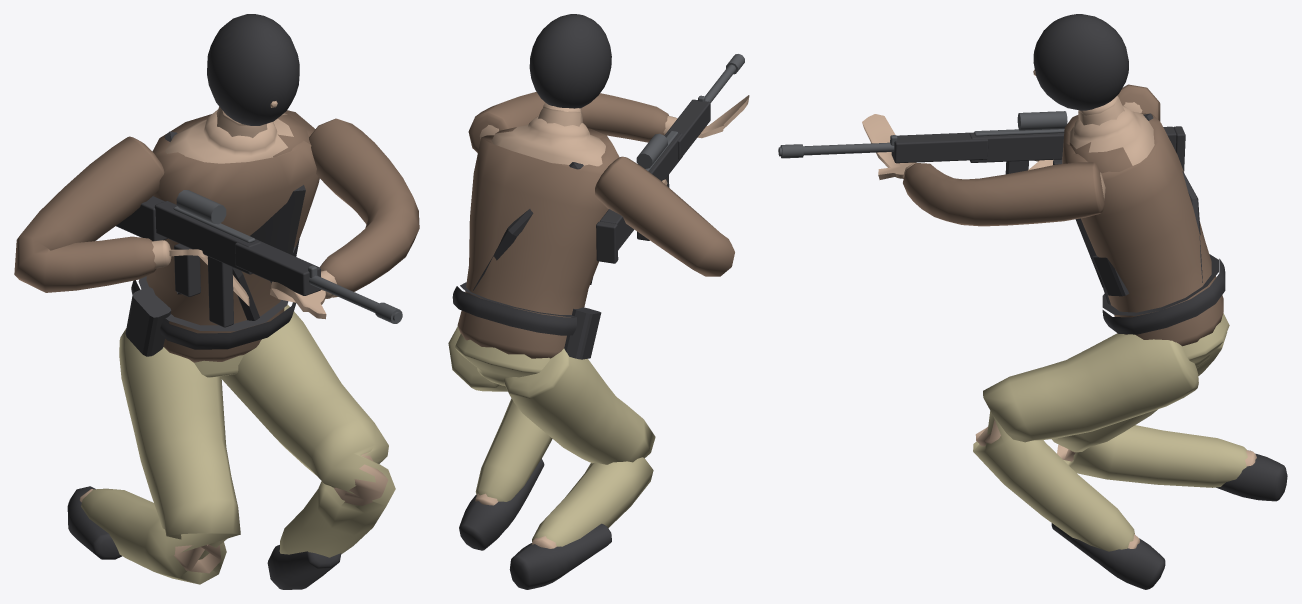
File: tactical-shooter-hill-town-veteran-crouch-aim-973b1852__27592.glb
3 renders of one model, left to right at view 1: azimuth 30°, elevation 25°; view 2: azimuth 150°, elevation 25°; view 3: azimuth 270°, elevation 25°, orthographic. The views are drawn at different scales.
Visible parts, largest first — view 1: veteran-crouch-aim; view 2: veteran-crouch-aim; view 3: veteran-crouch-aim.
Boxes of the visible parts, x1=… form: veteran-crouch-aim: x1=14, y1=14, x2=419, y2=589; veteran-crouch-aim: x1=448, y1=14, x2=749, y2=589; veteran-crouch-aim: x1=778, y1=14, x2=1287, y2=589.
Bounding box in the file's own units: 0.7737 × 1.39 × 1.18.
